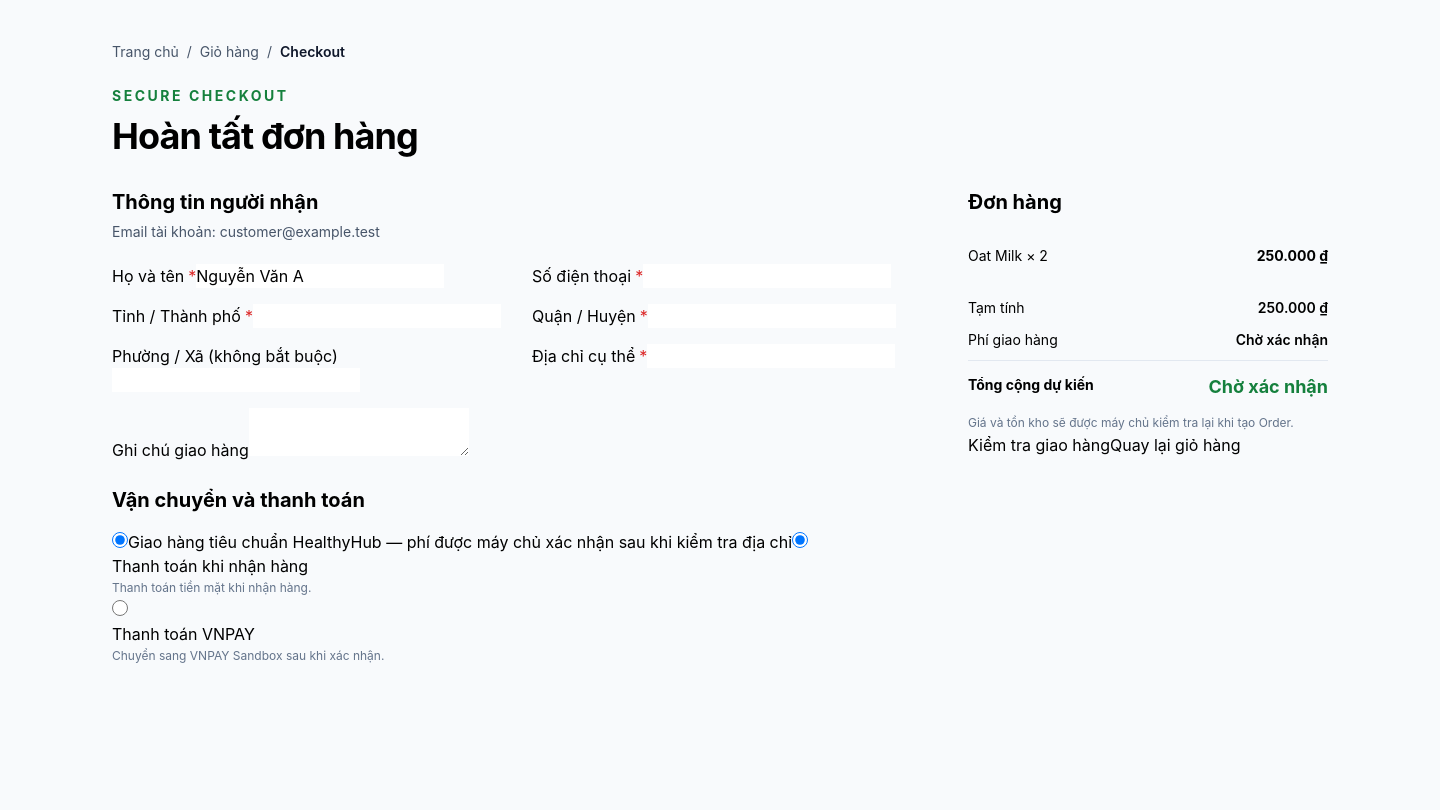
Test: CheckoutPage › validates recipient fields before requesting a Shipping quote
Expected: the radio button labelled "Thanh toán khi nhận hàng Thanh toán tiền mặt khi nhận hàng." is shown, [792,532,808,548]
Click the button "Kiểm tra giao hàng": (1039,445) [968,433,1110,457]
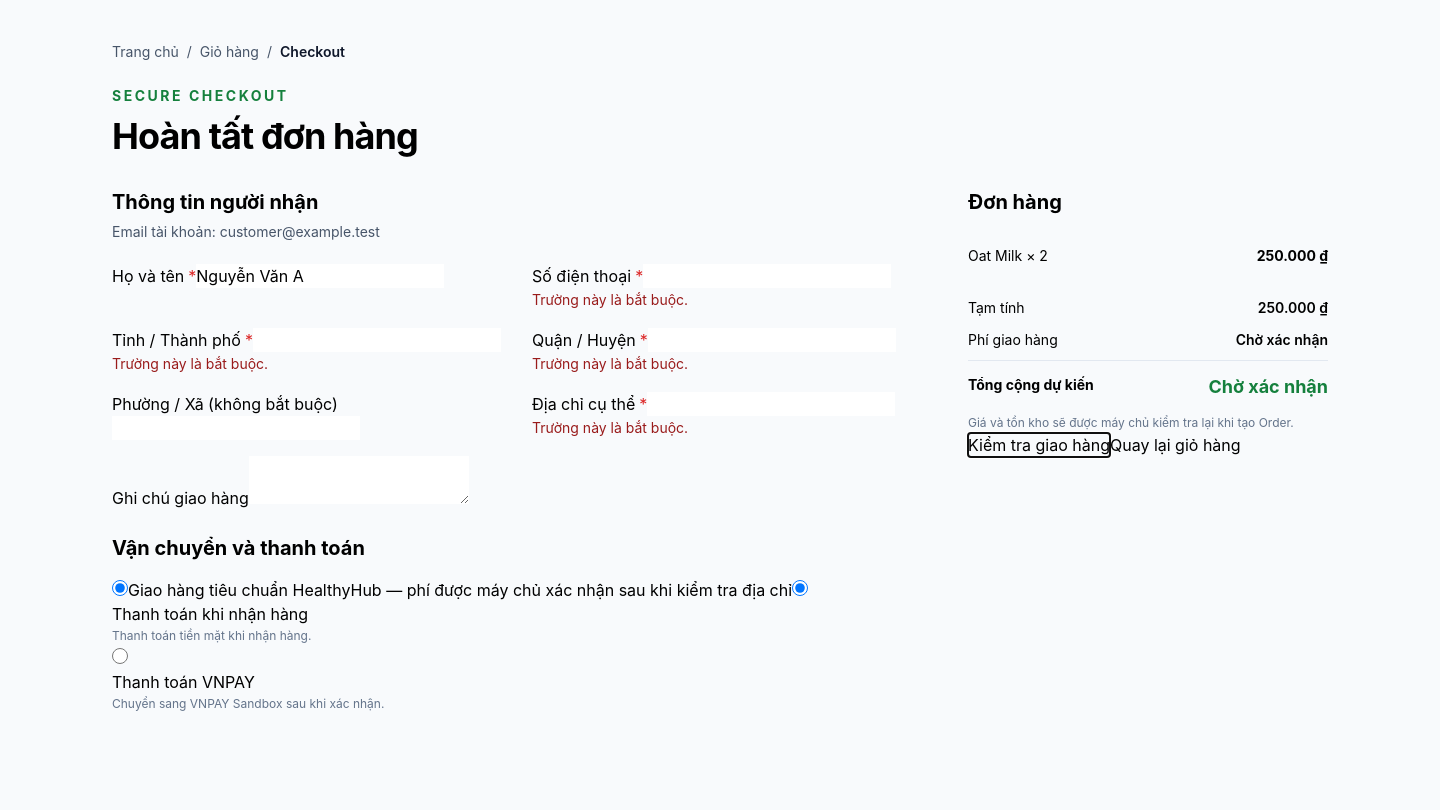
Expected: the text "Trường này là bắt buộc." is shown 4 times, [532,291,688,308]; [112,355,268,372]; [532,355,688,372]; [532,419,688,436]
